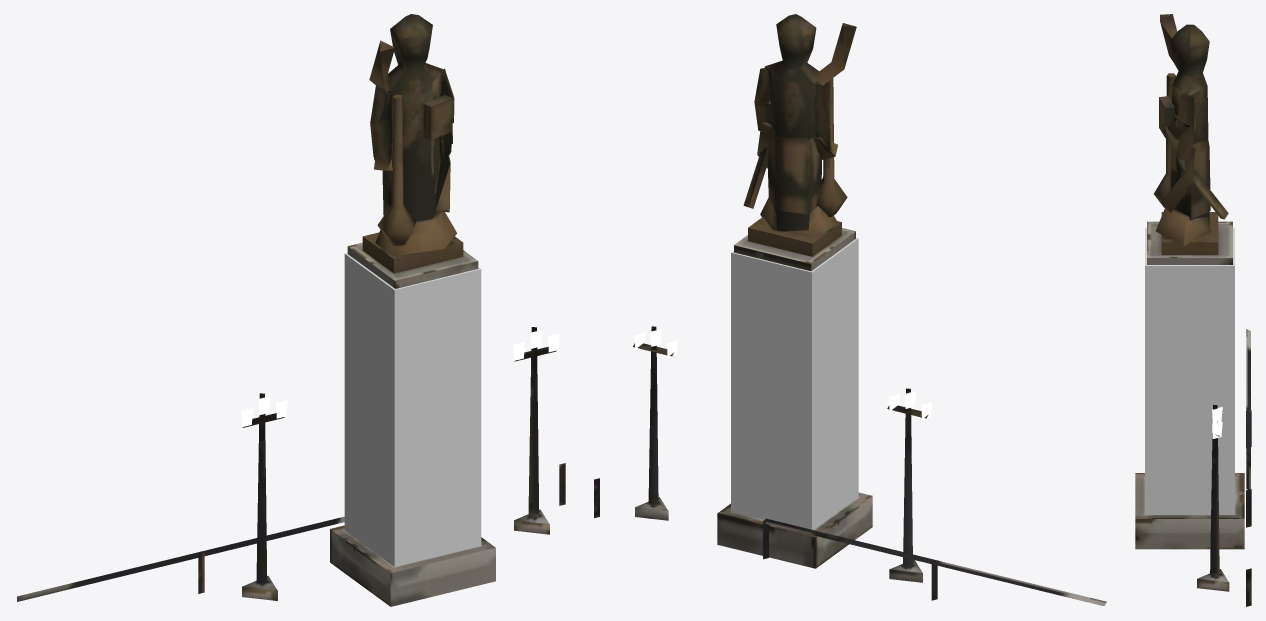
Rendered from tank_bund_statue.glb.
3 views of the same model, side by side, from view 1: azimuth 30°, elevation 25°; view 2: azimuth 150°, elevation 25°; view 3: azimuth 270°, elevation 25° (orthographic). The views are drawn at different scales.
Visible parts, largest first — view 1: COL_tb_plinth, tank_bund_statue_body, var_poet, var_saint, var_scholar, tb_lanterns, var_warrior; view 2: COL_tb_plinth, tank_bund_statue_body, var_saint, var_poet, var_warrior, tb_lanterns; view 3: COL_tb_plinth, tank_bund_statue_body, var_saint, var_poet, var_warrior, var_scholar, tb_lanterns.
Boxes of the visible parts, x1,y1,x2,y2 form: COL_tb_plinth: (344, 253, 481, 566); tank_bund_statue_body: (17, 242, 565, 606); var_poet: (369, 14, 452, 221); var_saint: (362, 94, 463, 273); var_scholar: (370, 69, 452, 161); tb_lanterns: (241, 329, 559, 426); var_warrior: (370, 69, 454, 165); COL_tb_plinth: (731, 237, 858, 529); tank_bund_statue_body: (594, 228, 1106, 605); var_saint: (748, 78, 847, 256); var_poet: (754, 14, 856, 231); var_warrior: (743, 67, 829, 208); tb_lanterns: (634, 329, 932, 419); COL_tb_plinth: (1145, 228, 1234, 514); tank_bund_statue_body: (1135, 221, 1251, 606); var_saint: (1154, 73, 1218, 254); var_poet: (1160, 14, 1209, 226); var_warrior: (1164, 94, 1228, 219); var_scholar: (1159, 95, 1195, 138); tb_lanterns: (1212, 407, 1222, 438).
Size of the model in its own units: 44.36 by 42.92 by 9.05.
2 materials, 1 textured.
